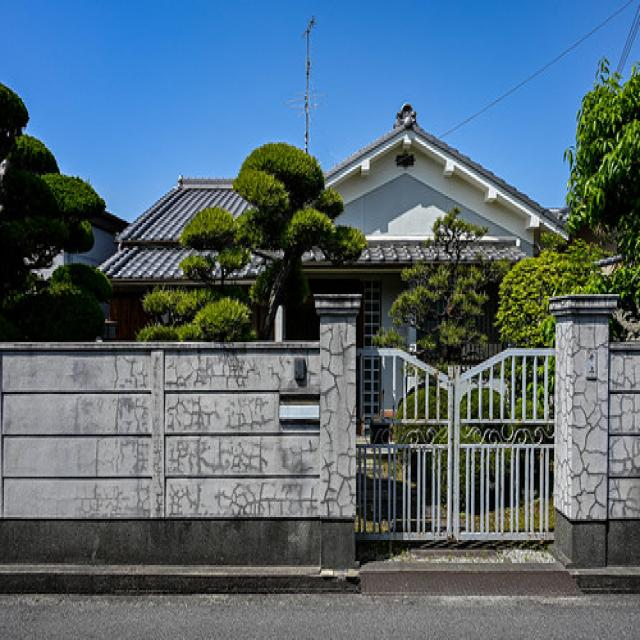building: (95, 115, 631, 582)
